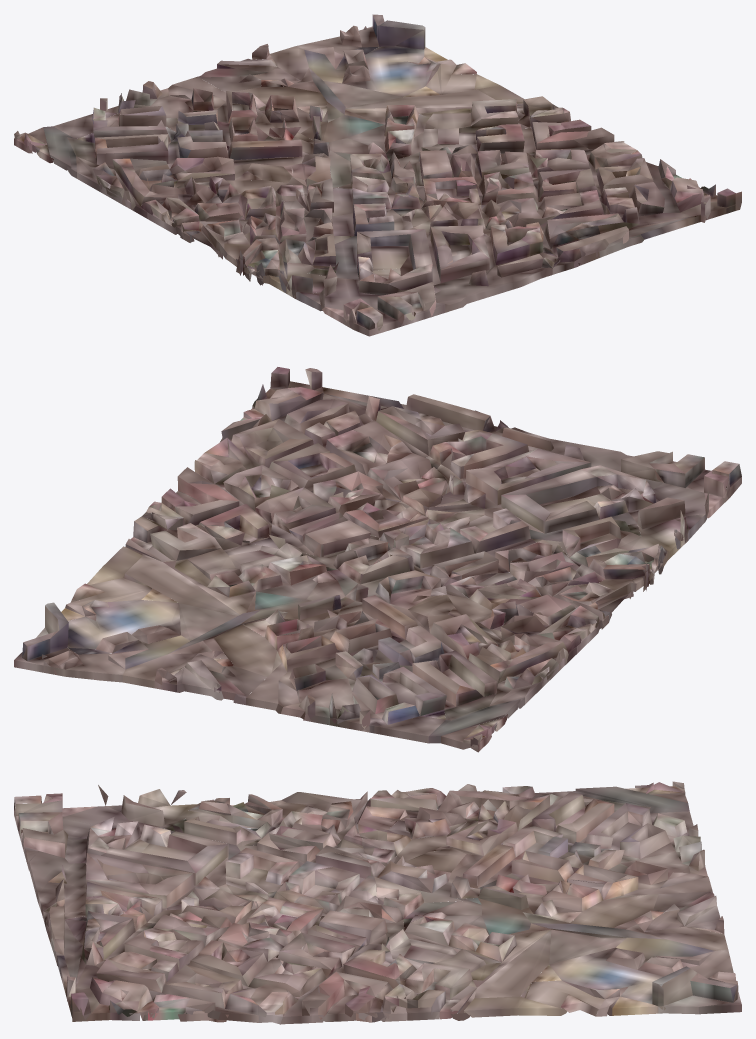
3 renders of one model, top to bottom at view 1: azimuth 30°, elevation 25°; view 2: azimuth 150°, elevation 25°; view 3: azimuth 270°, elevation 25°, orthographic. The views are drawn at different scales.
Visible parts, largest first — view 1: Mesh_0; view 2: Mesh_0; view 3: Mesh_0.
Boxes of the visible parts, x1=… form: Mesh_0: x1=14, y1=14, x2=741, y2=336; Mesh_0: x1=14, y1=367, x2=741, y2=752; Mesh_0: x1=14, y1=781, x2=741, y2=1024.
Size of the model in its own units: 1080 by 104 by 1318.
2 materials, 2 textured.
